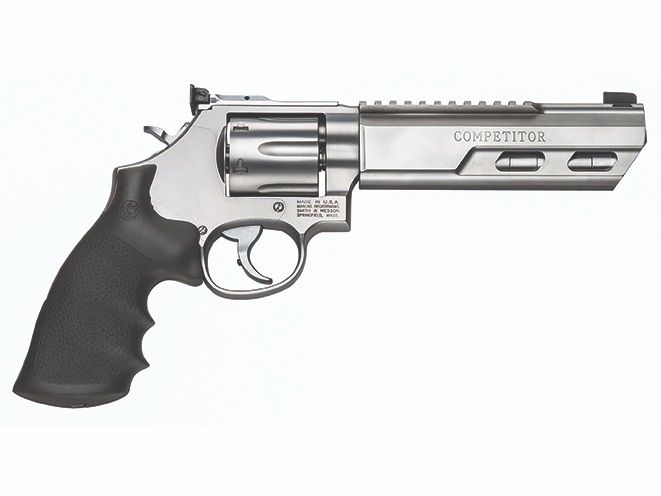gun: (12, 76, 651, 409)
